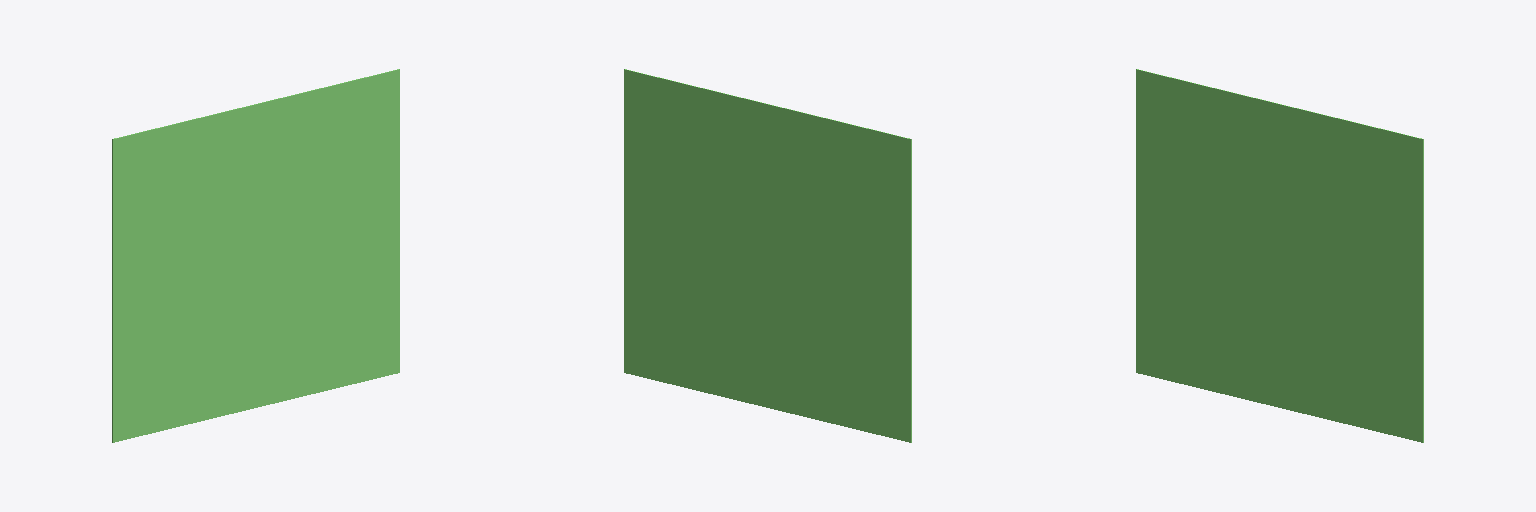
3 views of the same model, side by side, from view 1: azimuth 30°, elevation 25°; view 2: azimuth 150°, elevation 25°; view 3: azimuth 330°, elevation 25° (orthographic).
Visible parts, largest first — view 1: Cube; view 2: Cube; view 3: Cube.
Boxes of the visible parts, box(x1,y1,x2,y2) form: Cube: box(112, 69, 399, 442); Cube: box(624, 69, 911, 442); Cube: box(1136, 69, 1423, 442).
Bounding box in the file's own units: 6.51 × 6.58 × 0.02.
Materials: 1 (1 with a texture image).